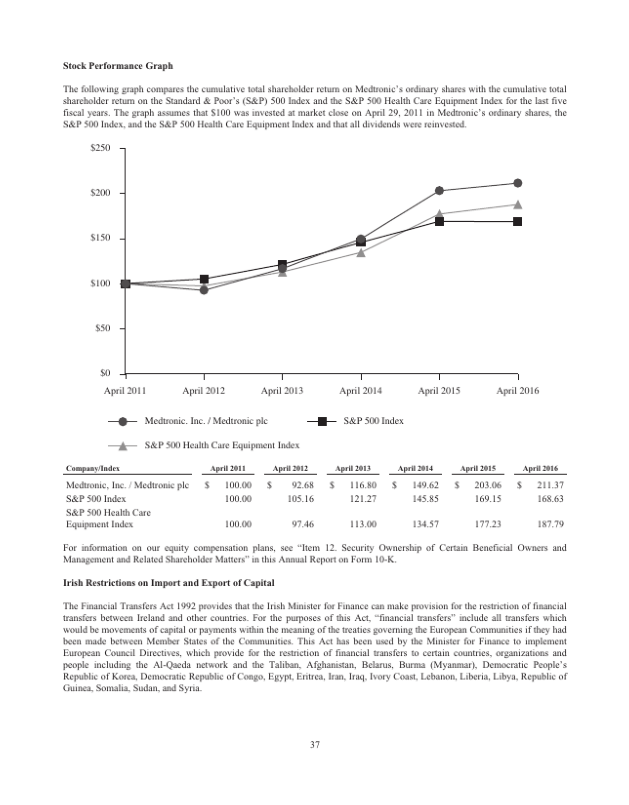table: (64, 461, 567, 538)
